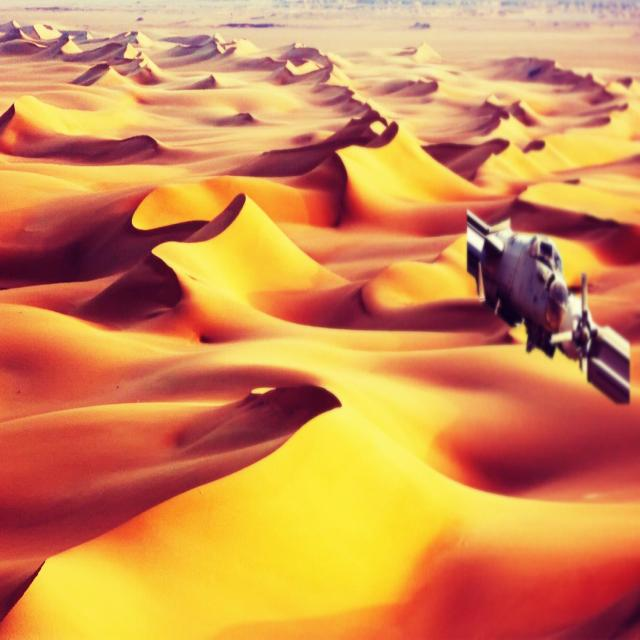airplane: (466, 208, 630, 404)
